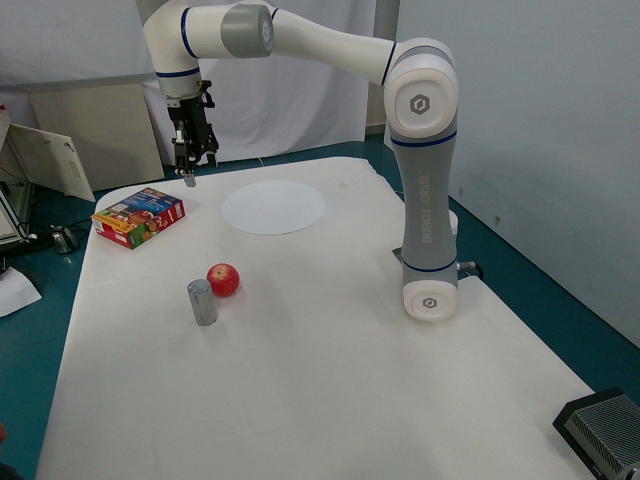apple: (204, 260, 242, 298)
metalROD: (181, 275, 221, 330)
